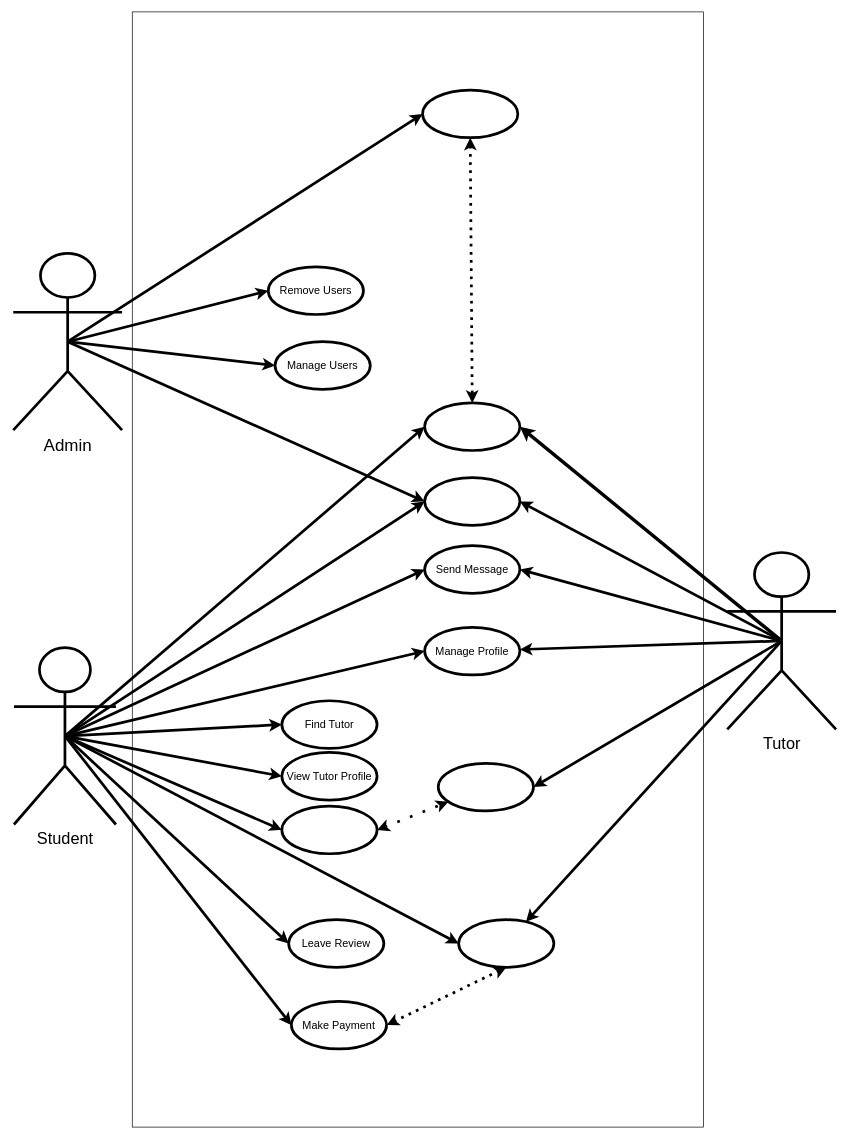
Some shapes in this 849 by 1139 pixel diagram are drawn without their labels. The centre of each missing label's shape, as x and y in pixels:
"Accept Request" belongs at point (485, 787).
"Approve Tutors" belongs at point (470, 113).
"Hire Tutor" belongs at point (329, 829).
"Login" belongs at point (472, 501).
"Register" belongs at point (472, 426).
"View Payment" belongs at point (506, 943).
